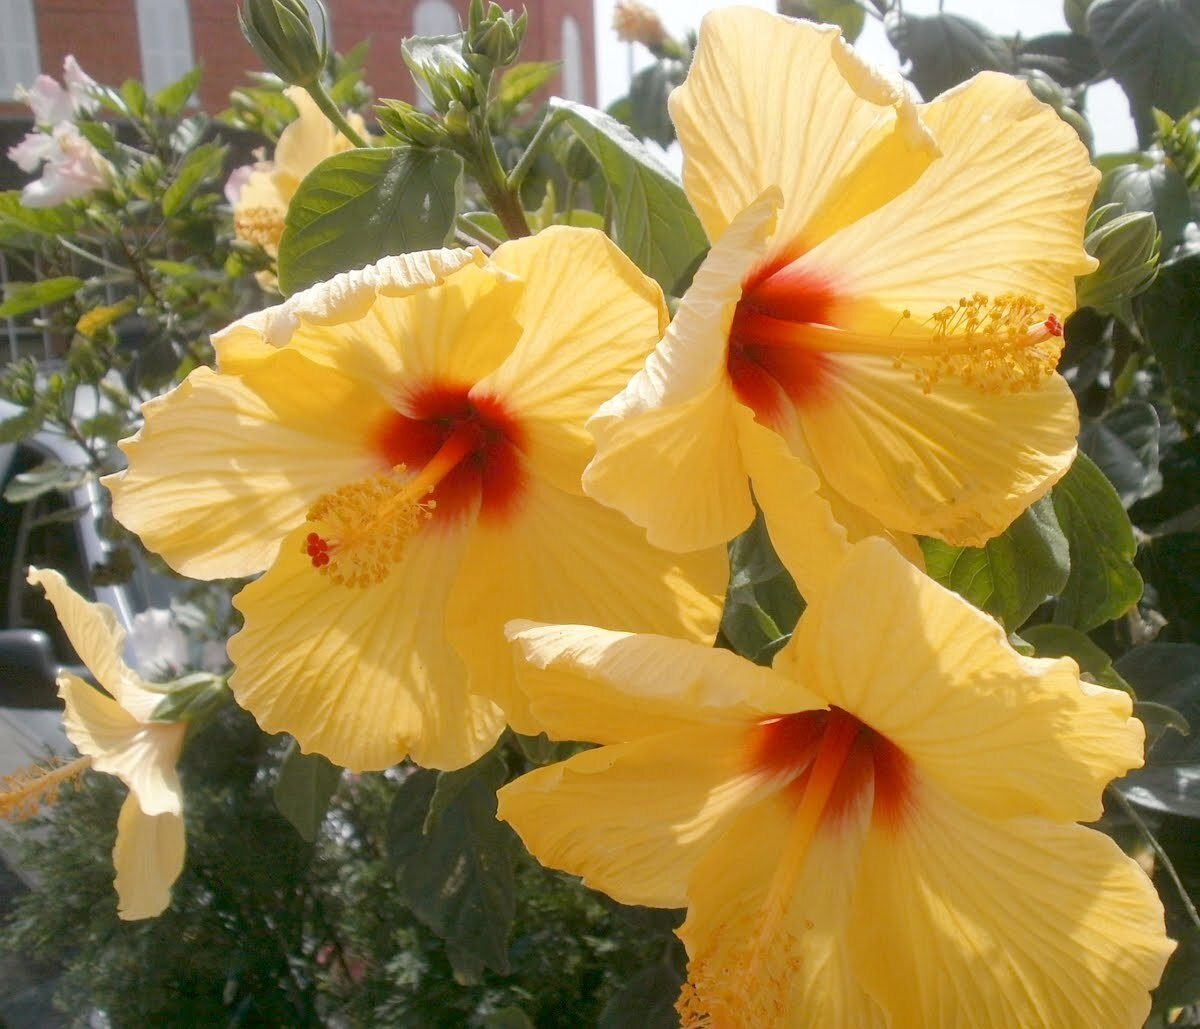Hibiscus-rosa-sinesis: (108, 227, 730, 769), (497, 550, 1171, 1029), (579, 9, 1085, 588)
